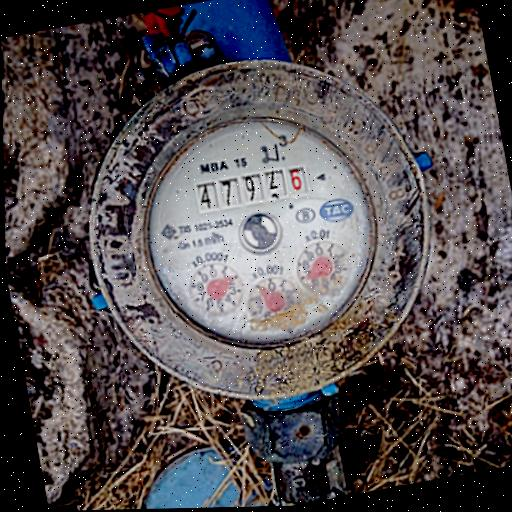2: (265, 170, 288, 197)
4: (196, 182, 218, 210)
6: (288, 167, 307, 193)
7: (220, 178, 242, 206)
9: (241, 173, 261, 199)
border_water_meter_number: (187, 159, 315, 217)
